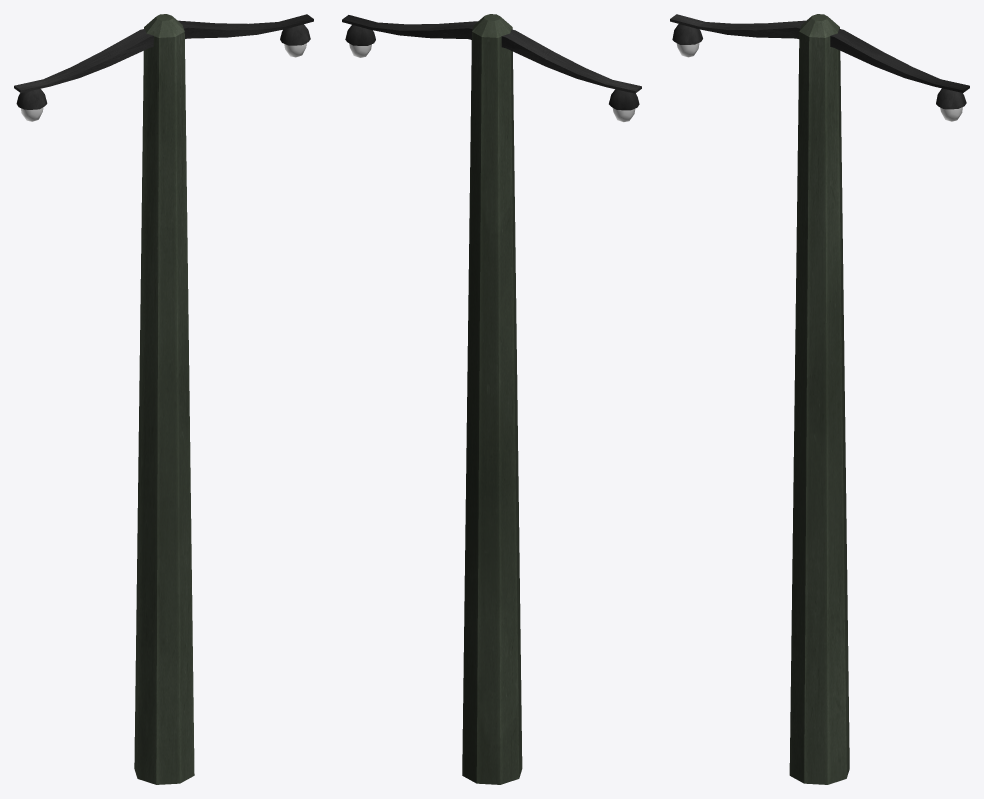
File: StreetLamp_TwoSided.fbx
The picture shows the model from 3 angles, left to right: view 1: azimuth 30°, elevation 25°; view 2: azimuth 150°, elevation 25°; view 3: azimuth 330°, elevation 25°; orthographic projection.
Parts seen in each view (by area): view 1: StreetLamp_TwoSided; view 2: StreetLamp_TwoSided; view 3: StreetLamp_TwoSided.
Part boxes in pixels (bbox=[...]): StreetLamp_TwoSided: bbox=[14, 14, 313, 784]; StreetLamp_TwoSided: bbox=[342, 14, 641, 784]; StreetLamp_TwoSided: bbox=[670, 14, 969, 784].
Size of the model in its own units: 255 by 627 by 46.87.
